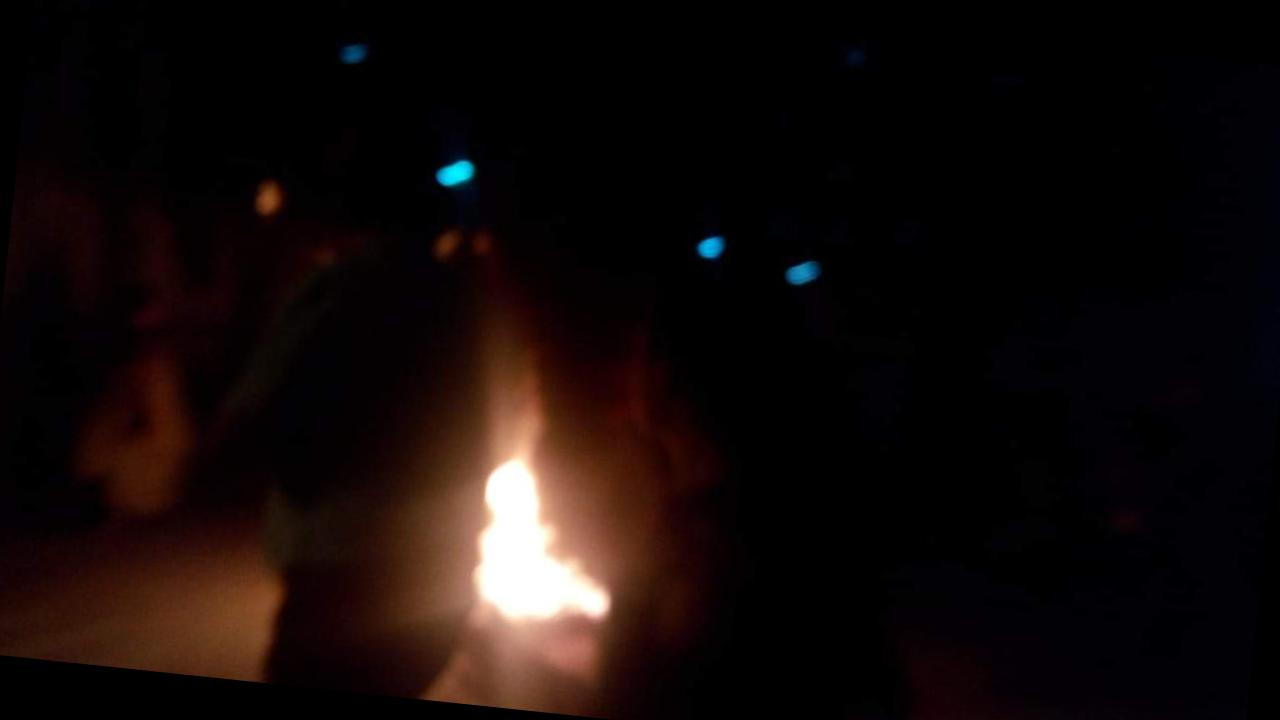Fire: (465, 448, 629, 632)
